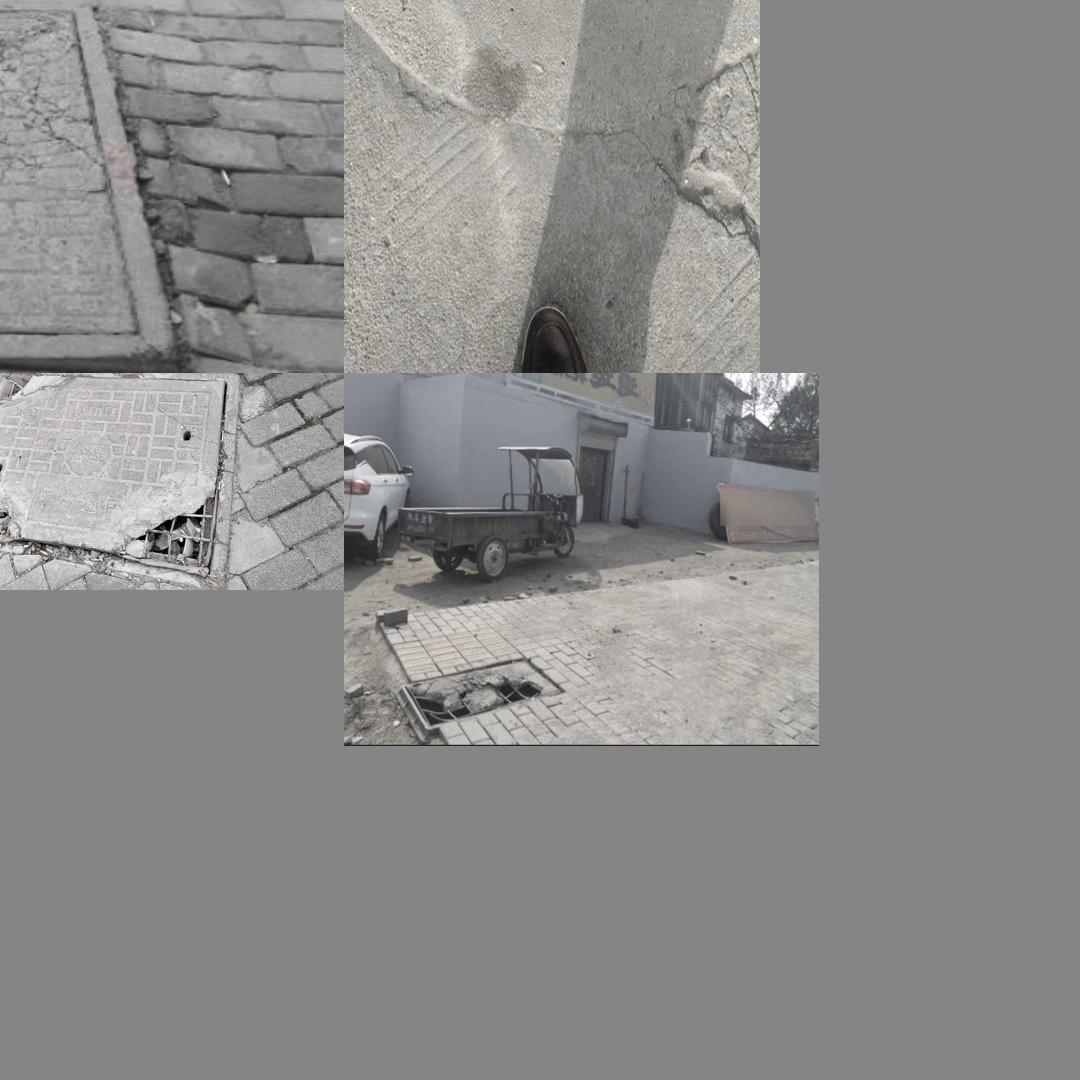broke: (0, 0, 176, 359), (0, 374, 224, 573), (347, 0, 748, 78), (398, 656, 565, 741)
